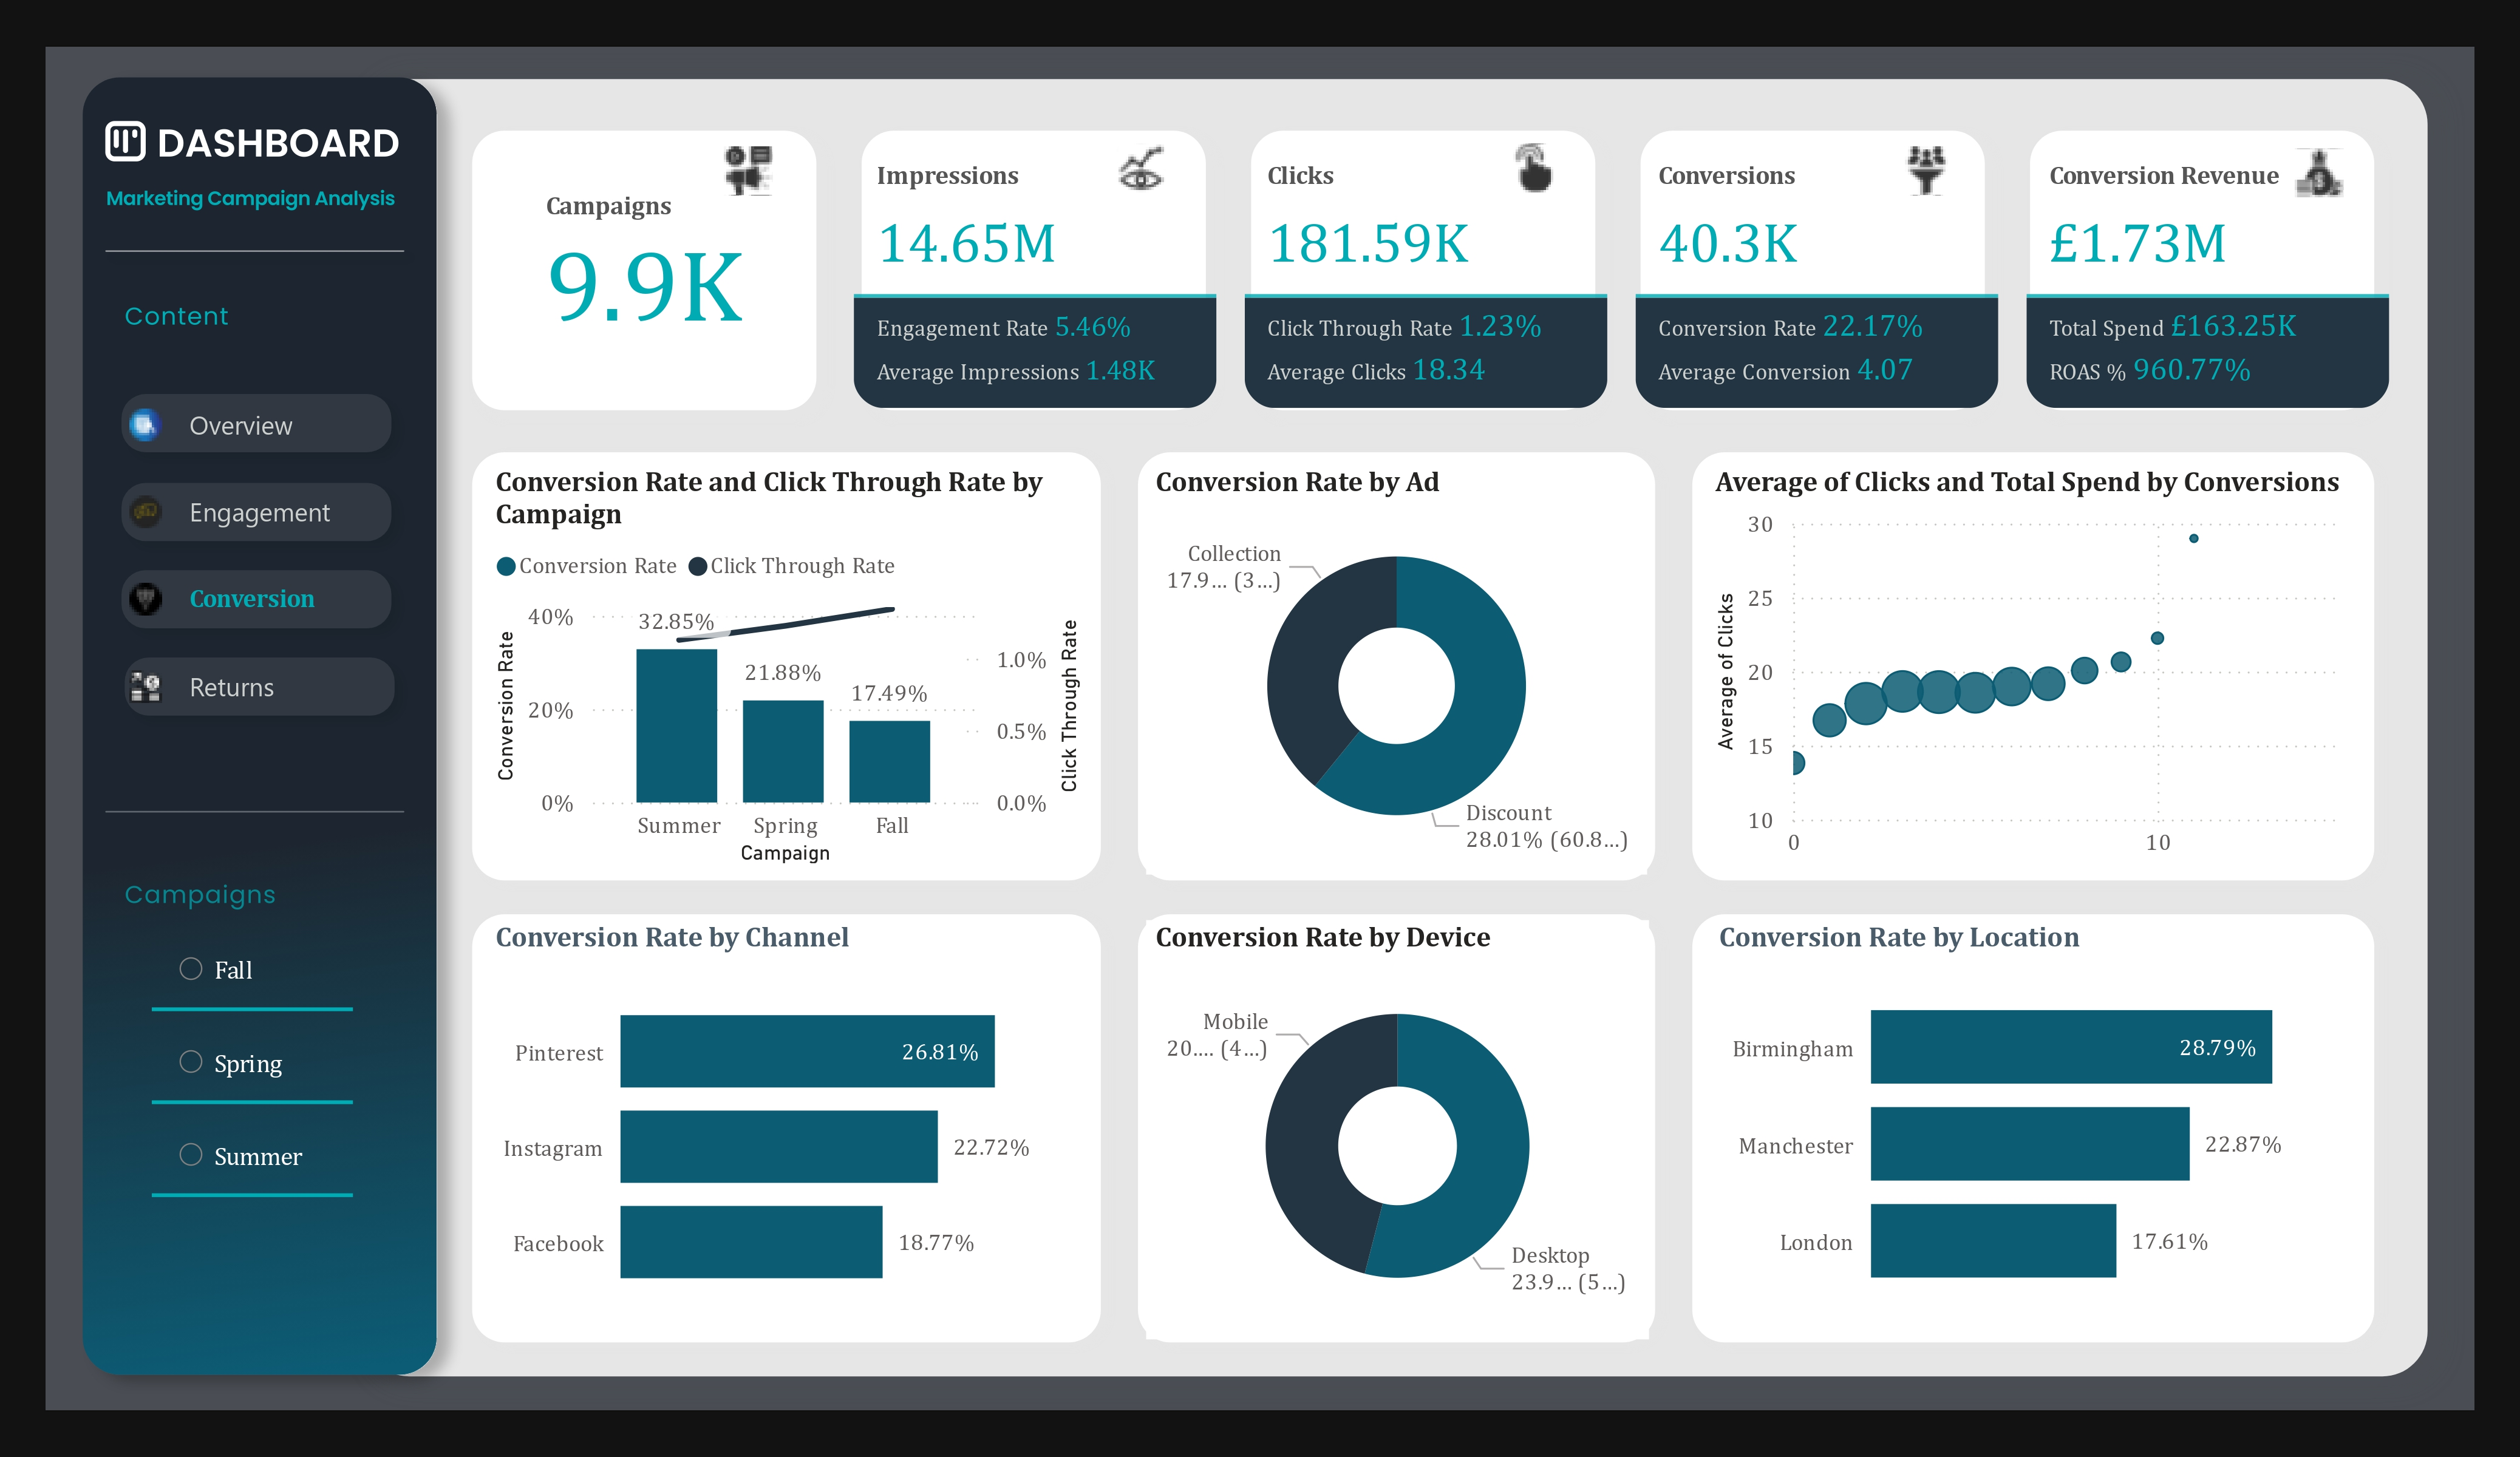

This screenshot's page, from the dashboard's own definition file:
{"tool":"powerbi","page":{"name":"Conversion","canvas":[1280,720],"ordinal":2},"visuals":[{"type":"lineClusteredColumnComboChart","fields":{"Category":["marketing.Campaign"],"Y":["_measures.Conversion Rate"],"Y2":["_measures.Click Through Rate"]},"box":[231.8,220.9,318.2,215.5],"z":0},{"type":"clusteredBarChart","fields":{"Category":["marketing.Channel"],"Y":["_measures.Conversion Rate"]},"box":[231.8,460.9,318.2,216.4],"z":1000},{"type":"donutChart","fields":{"Category":["marketing.Ad"],"Y":["_measures.Conversion Rate"]},"box":[579.6,220.5,264.6,216.1],"z":2000},{"type":"donutChart","fields":{"Category":["marketing.Device"],"Y":["_measures.Conversion Rate"]},"box":[580,460.9,264.5,220.9],"z":3000},{"type":"scatterChart","fields":{"Y":["Avg(marketing.Clicks)"],"Size":["_measures.Total Spend"],"X":["marketing.Conversions"]},"box":[874.5,220.9,346.4,215.5],"z":4000},{"type":"clusteredBarChart","fields":{"Category":["marketing.Location"],"Y":["_measures.Conversion Rate"]},"box":[877.3,460.9,343.6,216.4],"z":5000},{"type":"pageNavigator","box":[76.2,185.5,97.4,166.9],"z":6000},{"type":"advancedSlicerVisual","fields":{"Values":["marketing.Campaign"]},"box":[51.2,460.5,115.6,153.5],"z":7000},{"type":"cardVisual","fields":{"Data":["_measures.Campaigns","_measures.Total Impressions","_measures.Total Clicks","_measures.Total Conversions","_measures.Total Conversion Revenue"]},"box":[215.5,36.4,1024.5,160],"z":8000}]}

Visuals, with their boxes in screenshot pixels (x1, y1, x2, y2):
lineClusteredColumnComboChart - marketing.Campaign x _measures.Conversion Rate: box(485, 464, 1089, 874)
clusteredBarChart - marketing.Channel x _measures.Conversion Rate: box(485, 920, 1089, 1331)
donutChart - marketing.Ad x _measures.Conversion Rate: box(1145, 464, 1647, 874)
donutChart - marketing.Device x _measures.Conversion Rate: box(1146, 920, 1648, 1339)
scatterChart - Avg(marketing.Clicks) x _measures.Total Spend: box(1705, 464, 2362, 874)
clusteredBarChart - marketing.Location x _measures.Conversion Rate: box(1711, 920, 2362, 1331)
pageNavigator: box(190, 398, 375, 714)
advancedSlicerVisual - marketing.Campaign: box(143, 919, 362, 1211)
cardVisual - _measures.Campaigns x _measures.Total Impressions: box(454, 115, 2399, 418)
